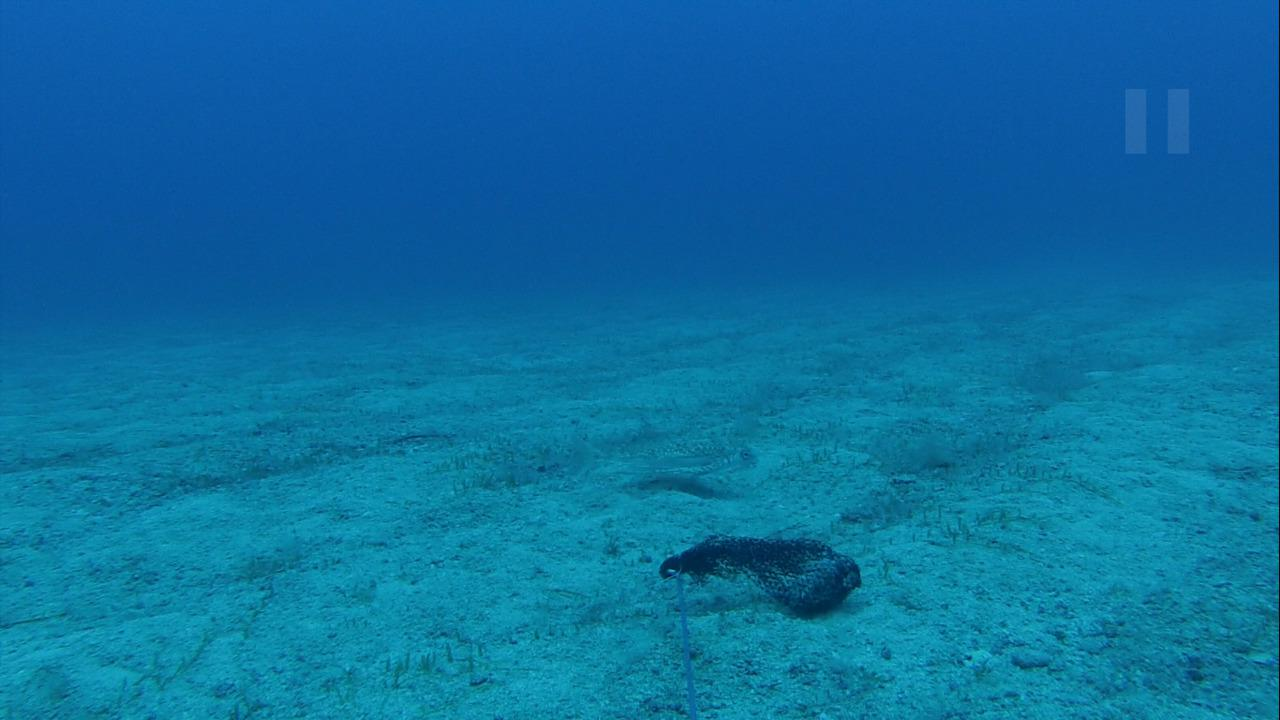dactylopterus: (579, 433, 765, 502)
